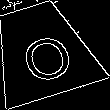O_N: (10, 20, 73, 82)
